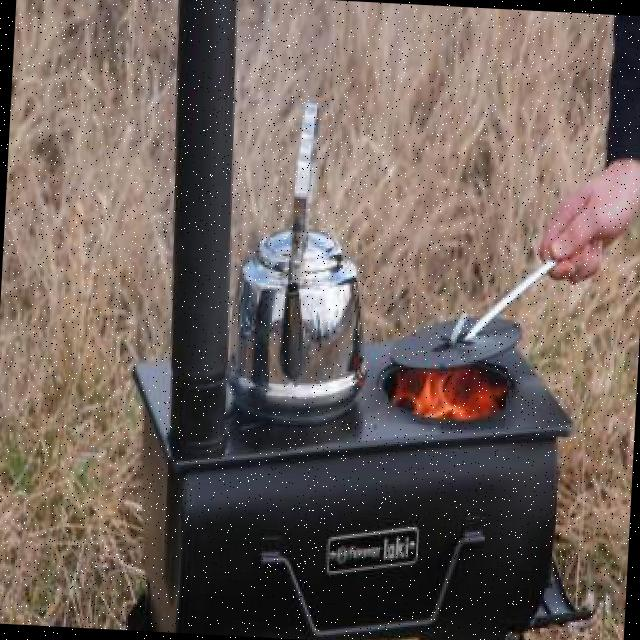fire: (387, 359, 508, 429)
